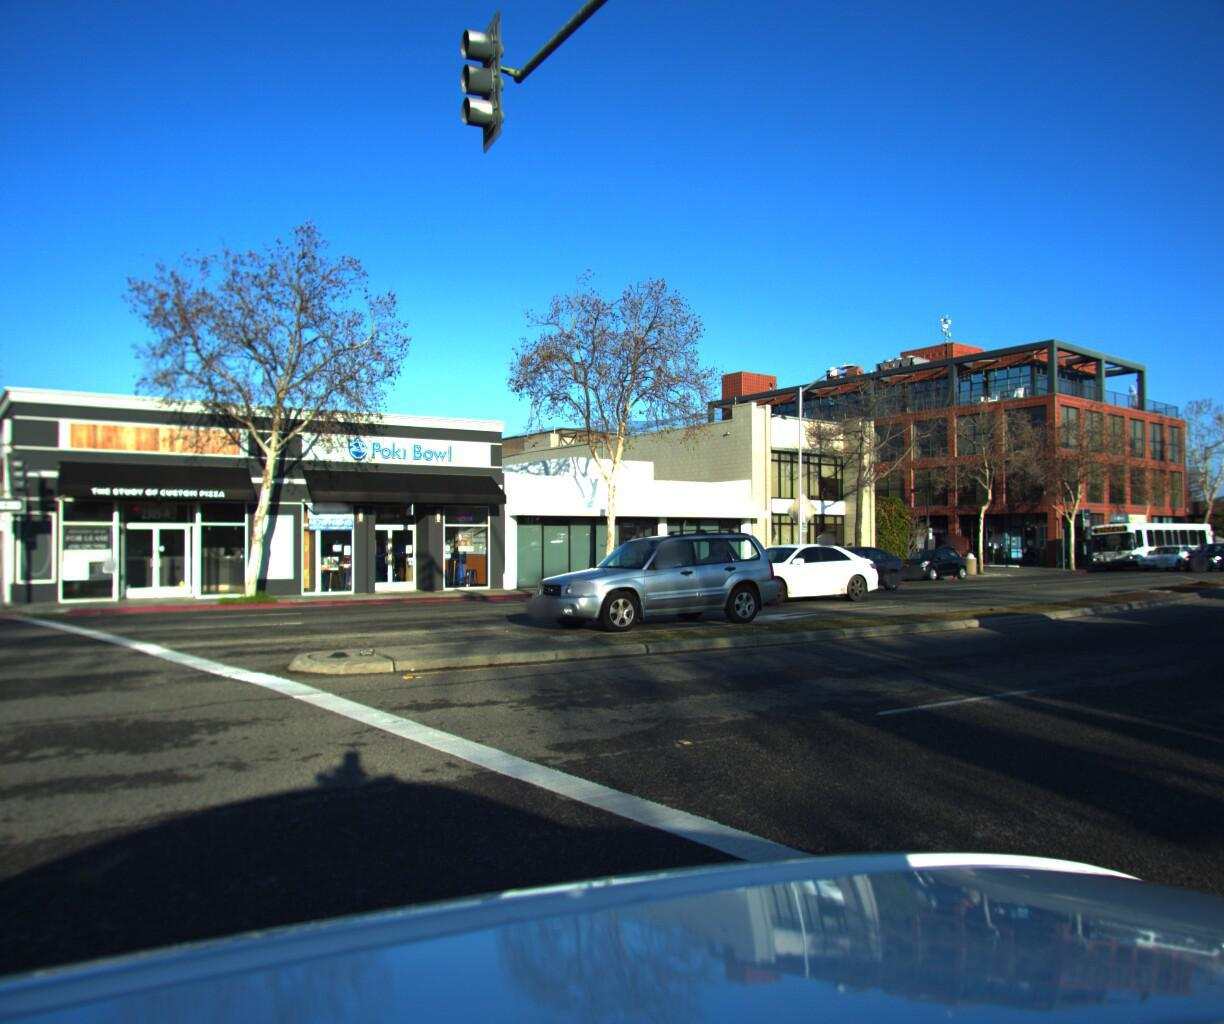bus: (1077, 516, 1215, 561)
car: (515, 525, 797, 642), (703, 533, 890, 605), (764, 541, 910, 588), (885, 542, 963, 578), (1129, 535, 1198, 565), (1169, 531, 1224, 564)
